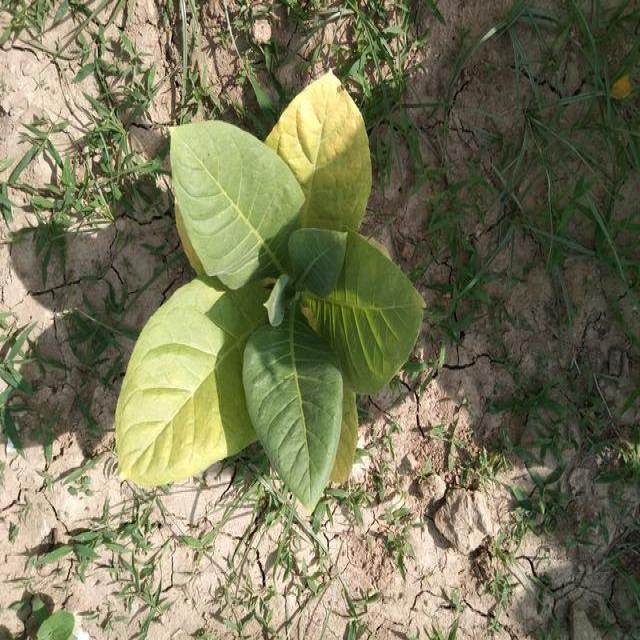crop: (108, 70, 428, 506)
